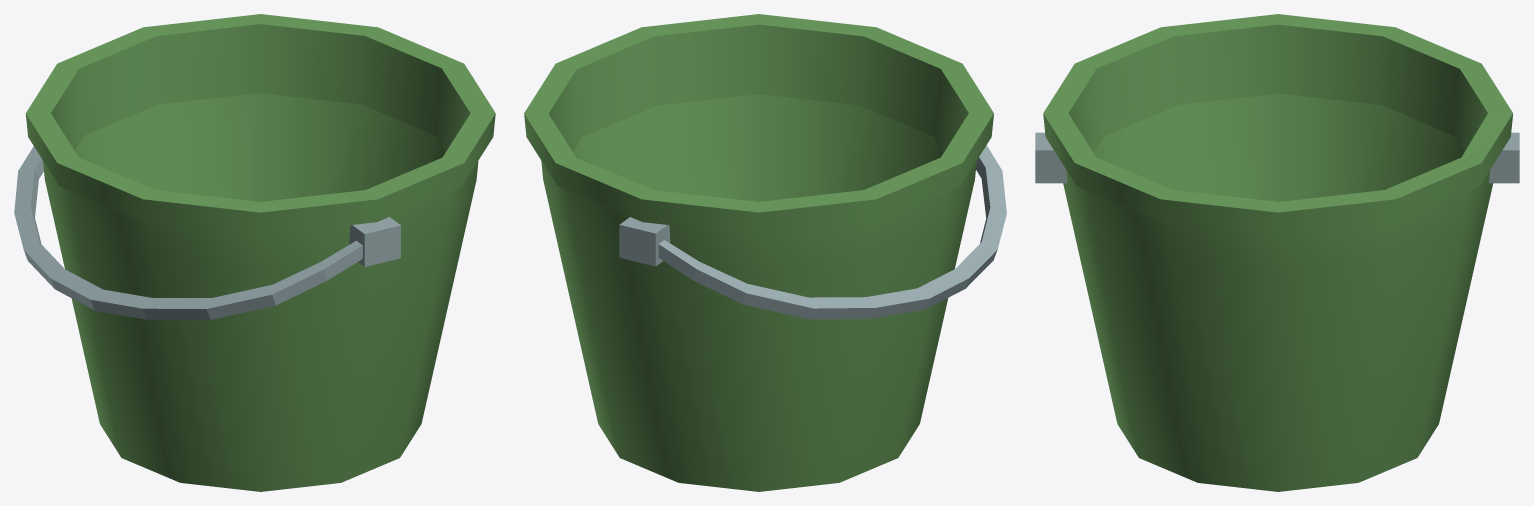
File: SM_Toy_04.fbx
3 views of the same model, side by side, from view 1: azimuth 30°, elevation 25°; view 2: azimuth 150°, elevation 25°; view 3: azimuth 270°, elevation 25° (orthographic).
Parts seen in each view (by area): view 1: SM_Toy_04; view 2: SM_Toy_04; view 3: SM_Toy_04.
Part boxes in pixels (box(x1,y1,x2,y2)): SM_Toy_04: box(14, 14, 495, 491); SM_Toy_04: box(524, 14, 1006, 491); SM_Toy_04: box(1035, 14, 1519, 491).
Bounding box in the file's own units: 23.93 × 17.18 × 24.26.
